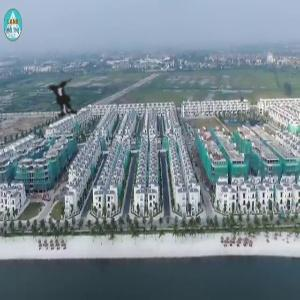drone: (2, 43, 127, 168)
